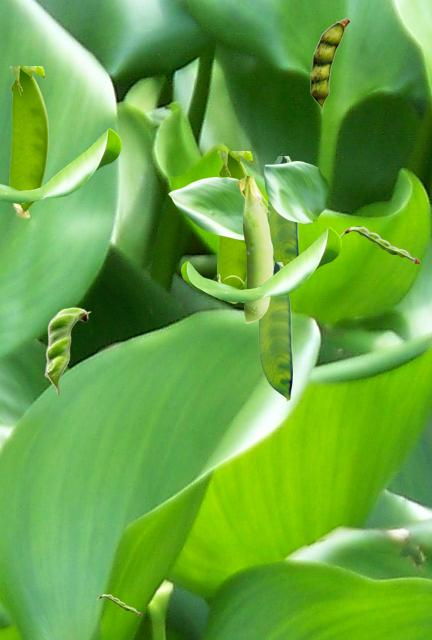pea: (9, 66, 47, 217), (217, 151, 253, 302), (236, 171, 272, 322), (258, 262, 291, 400), (44, 307, 90, 394), (310, 18, 349, 112), (267, 156, 297, 264), (340, 226, 419, 262), (96, 594, 141, 614)
